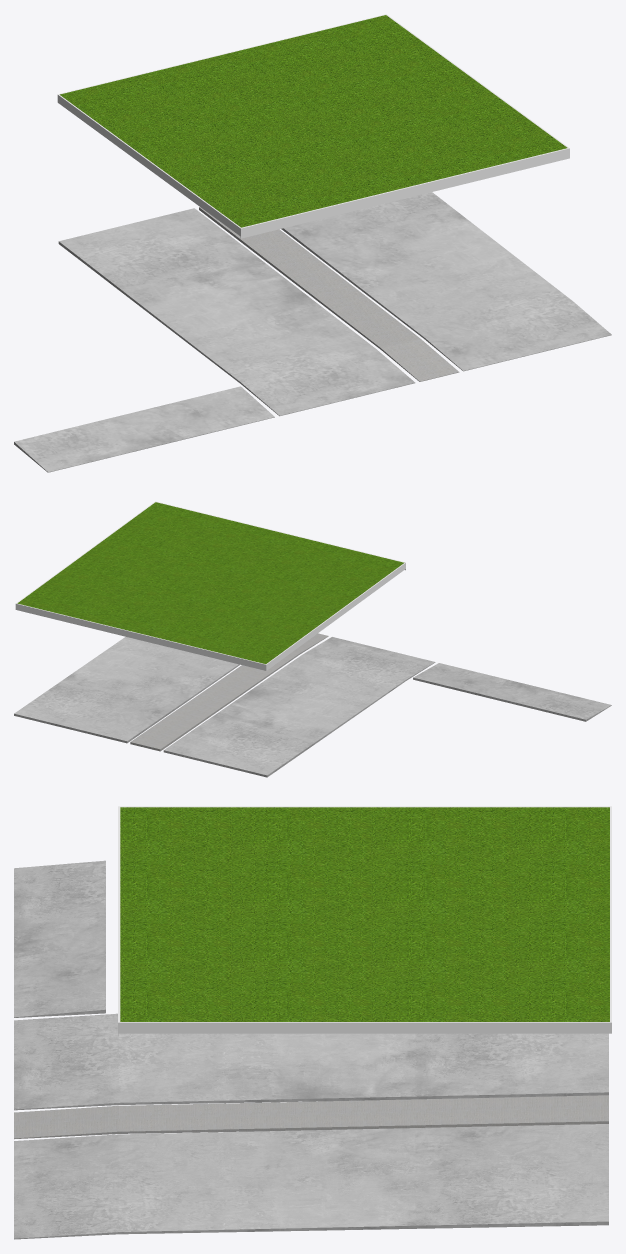
Rendered from concrete and steel.fbx.
The picture shows the model from 3 angles, top to bottom: view 1: azimuth 30°, elevation 25°; view 2: azimuth 150°, elevation 25°; view 3: azimuth 270°, elevation 25°; orthographic projection. The views are drawn at different scales.
Visible parts, largest first — view 1: Group_172, Group_116, Object606505; view 2: Group_116, Group_172, Object606505; view 3: Group_172, Group_116, Object606505.
Part boxes in pixels (<box>): Group_172: <box>14,192,611,472</box>; Group_116: <box>57,14,569,238</box>; Object606505: <box>199,207,459,381</box>; Group_116: <box>15,501,405,670</box>; Group_172: <box>14,637,611,777</box>; Object606505: <box>130,633,328,751</box>; Group_172: <box>14,860,608,1239</box>; Group_116: <box>118,806,611,1036</box>; Object606505: <box>14,1095,608,1139</box>.
Size of the model in its own units: 9415 by 2543 by 6422.
Materials: 4 (3 with a texture image).
